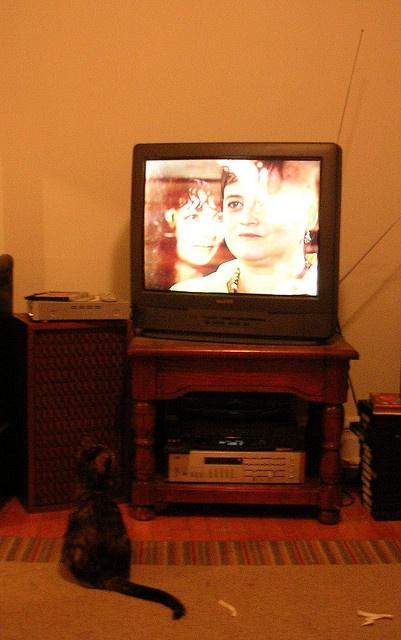AIO PC-Monitor-TV: (129, 140, 340, 344)
